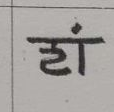anusvara: (73, 24, 81, 33)
